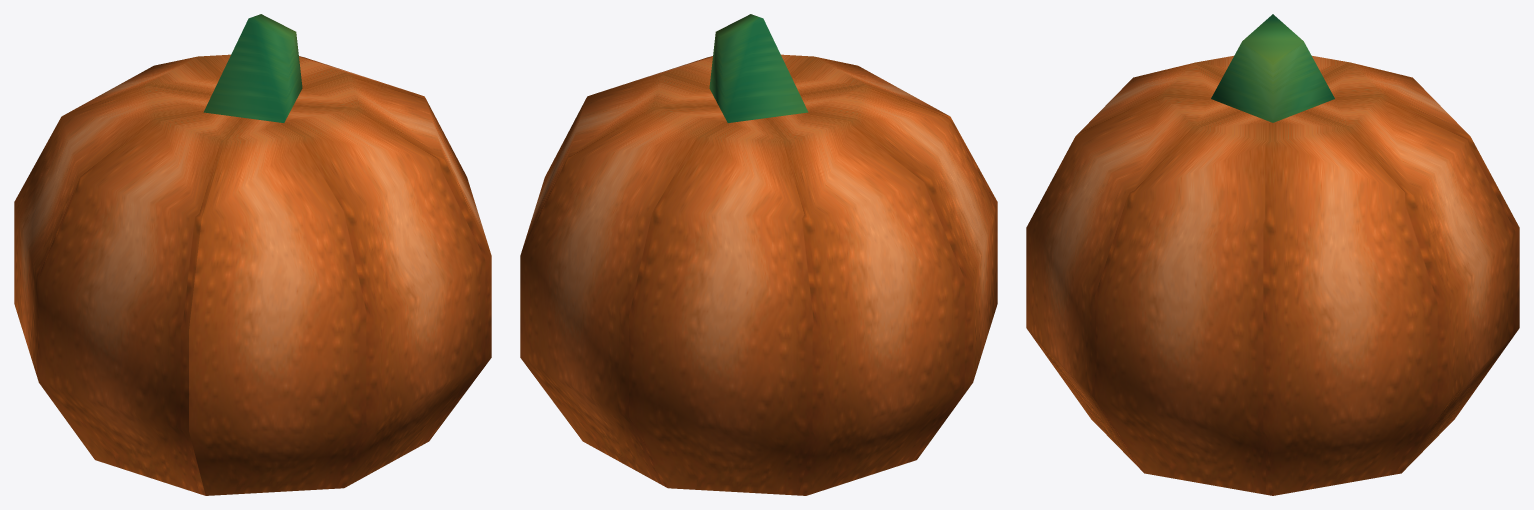
Rendered from PumpkinPasty.obj.
The picture shows the model from 3 angles, left to right: view 1: azimuth 30°, elevation 25°; view 2: azimuth 150°, elevation 25°; view 3: azimuth 270°, elevation 25°; orthographic projection.
Visible parts, largest first — view 1: material_0; view 2: material_0; view 3: material_0.
Boxes of the visible parts, x1,y1,x2,y2 form: material_0: (14,14,491,495); material_0: (520,14,997,495); material_0: (1026,14,1519,495).
Size of the model in its own units: 10.48 by 9.45 by 10.48.
1 material, 1 textured.
